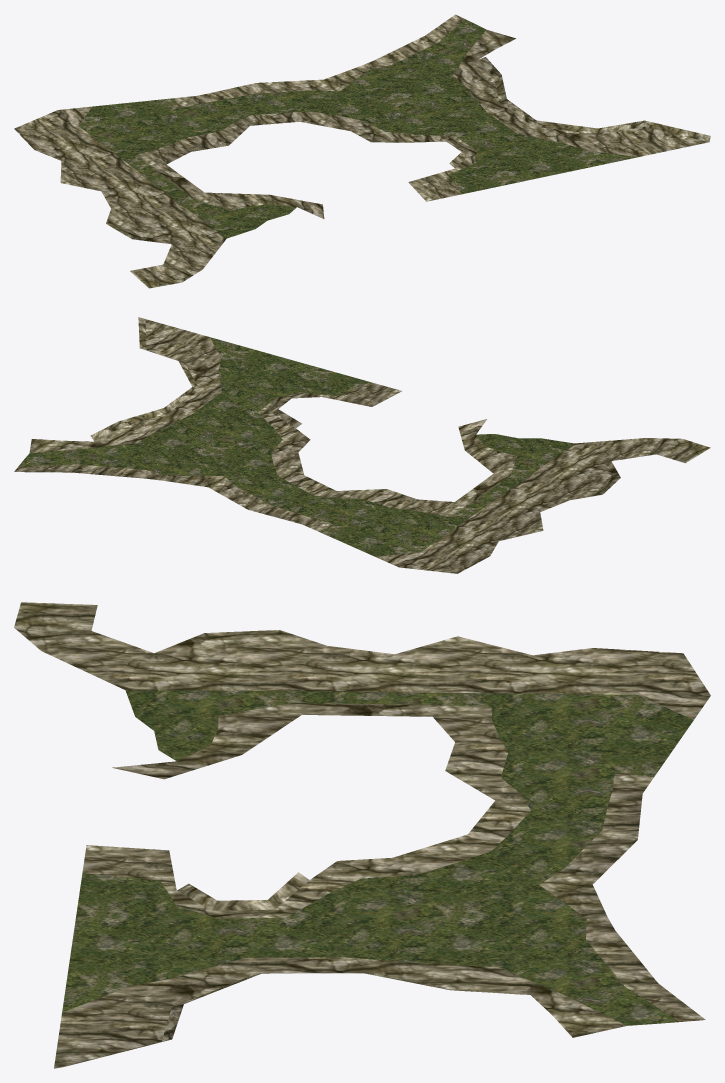
Rendered from CB_NEWPLAYSURFACE_CB_PLAYSURFACE32.fbx.
The picture shows the model from 3 angles, top to bottom: view 1: azimuth 30°, elevation 25°; view 2: azimuth 150°, elevation 25°; view 3: azimuth 270°, elevation 25°; orthographic projection. The views are drawn at different scales.
Parts seen in each view (by area): view 1: CB_NEWPLAYSURFACE_CB_PLAYSURFACE32; view 2: CB_NEWPLAYSURFACE_CB_PLAYSURFACE32; view 3: CB_NEWPLAYSURFACE_CB_PLAYSURFACE32.
Boxes of the visible parts, box(x1,y1,x2,y2) form: CB_NEWPLAYSURFACE_CB_PLAYSURFACE32: box(14, 14, 710, 288); CB_NEWPLAYSURFACE_CB_PLAYSURFACE32: box(14, 317, 710, 573); CB_NEWPLAYSURFACE_CB_PLAYSURFACE32: box(14, 602, 710, 1068).
Bounding box in the file's own units: 517221 × 3060 × 324125.
2 materials, 2 textured.
